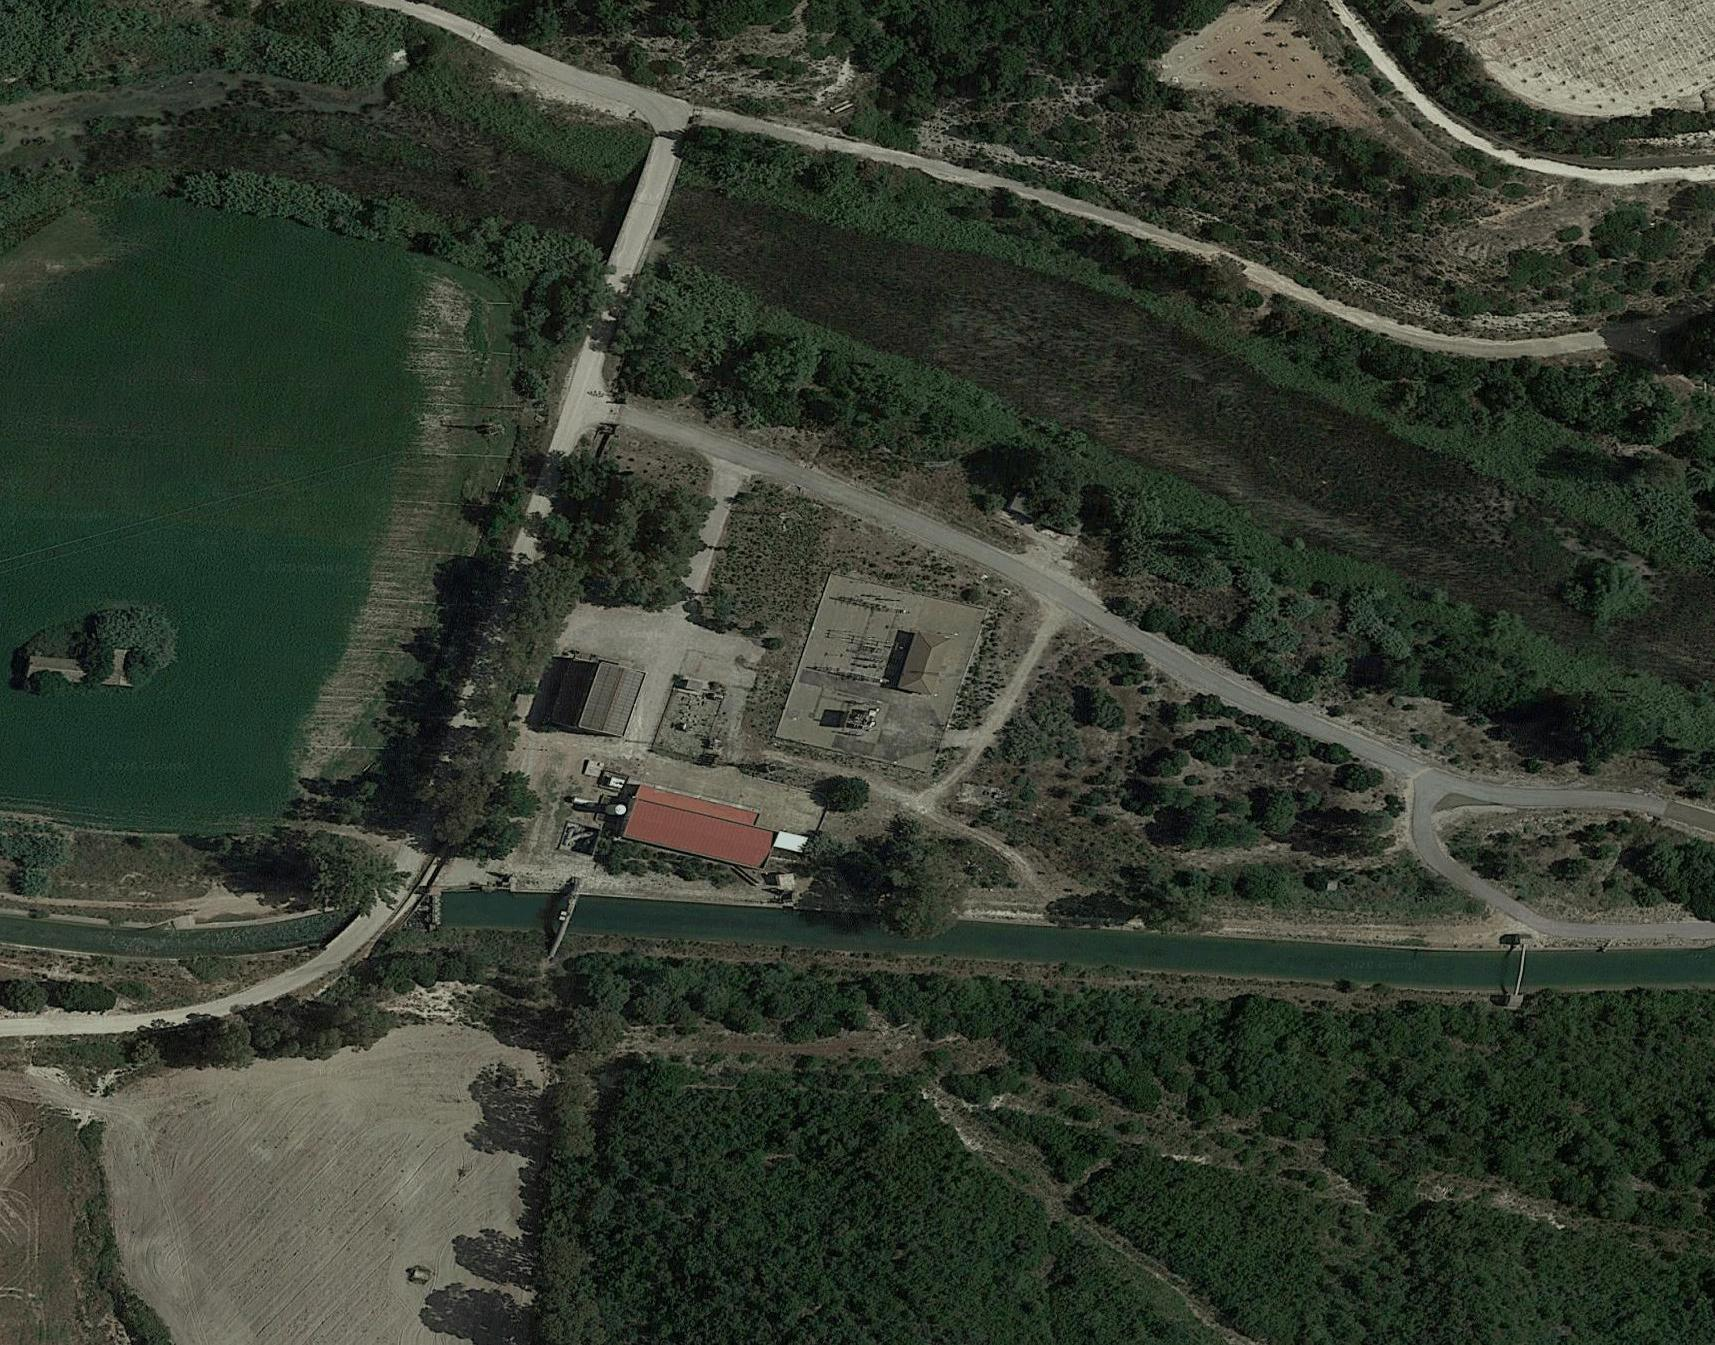substation: (809, 569, 913, 744)
